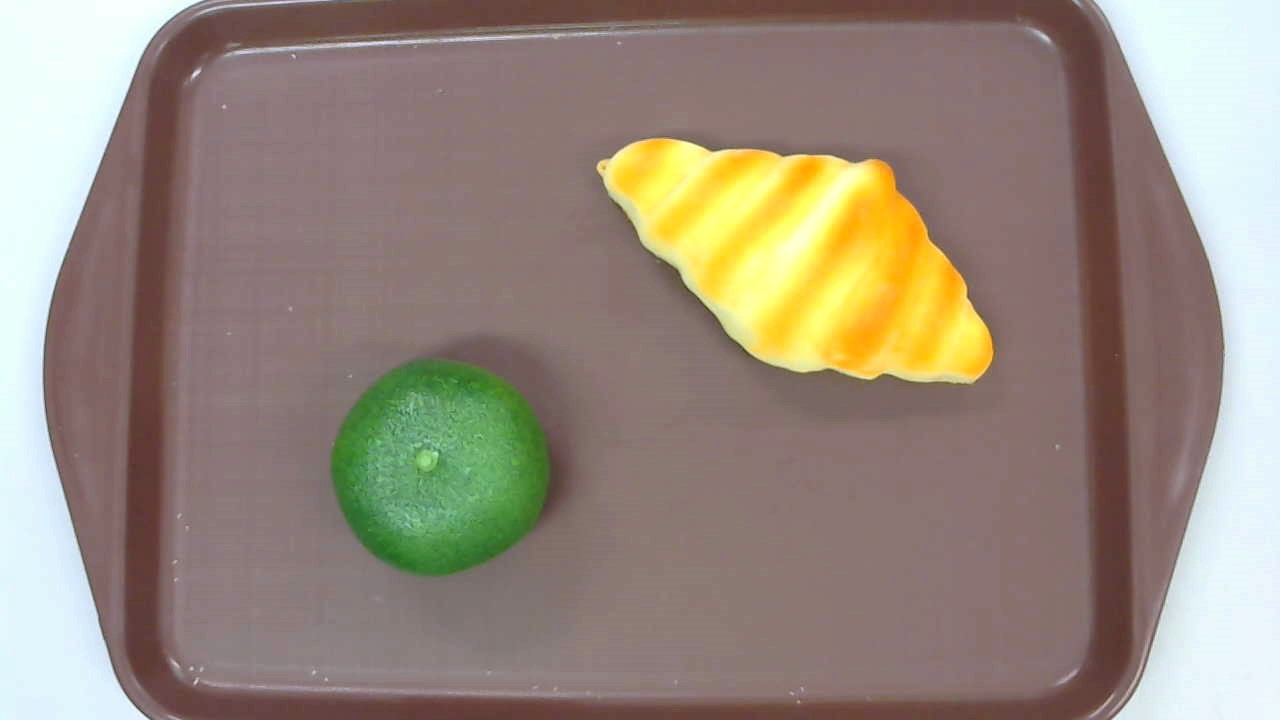croissant: (596, 136, 993, 385)
green orange: (329, 356, 552, 575)
